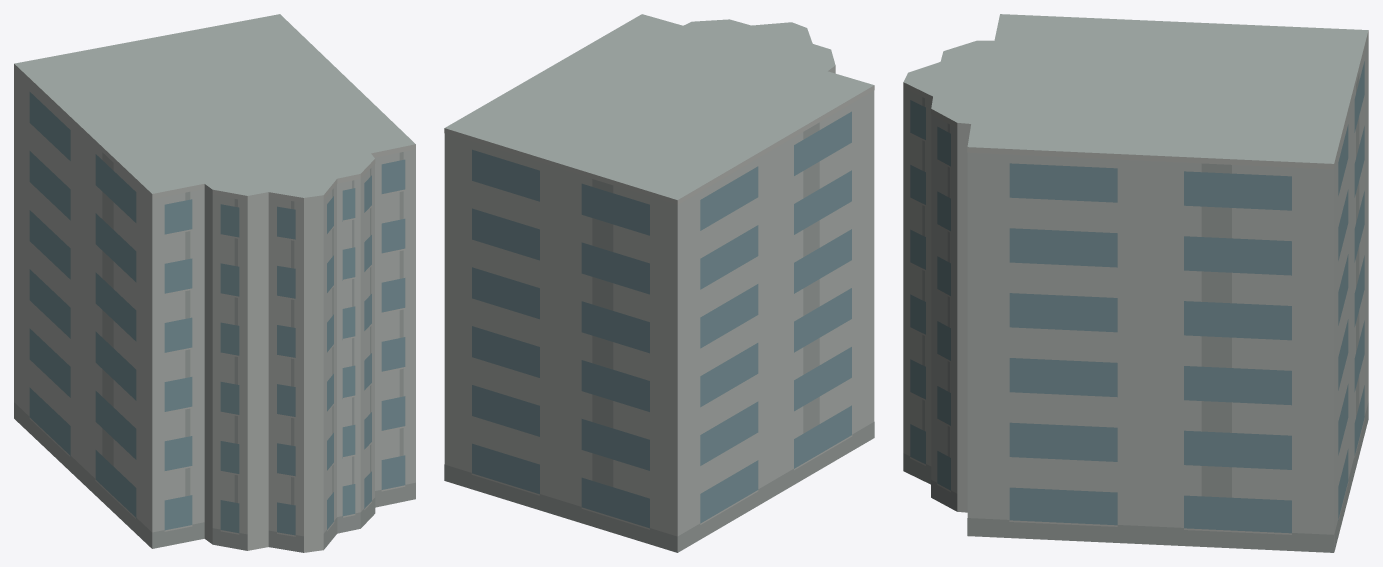
The model's file is survey-upis-32839141.glb.
3 renders of one model, left to right at view 1: azimuth 30°, elevation 25°; view 2: azimuth 150°, elevation 25°; view 3: azimuth 270°, elevation 25°, orthographic. The views are drawn at different scales.
Visible parts, largest first — view 1: survey-upis-32839141.tmp; view 2: survey-upis-32839141.tmp; view 3: survey-upis-32839141.tmp.
Part boxes in pixels (x1,y1,x2,y2): survey-upis-32839141.tmp: (14,14,415,552); survey-upis-32839141.tmp: (444,14,874,552); survey-upis-32839141.tmp: (903,14,1368,552).
Size of the model in its own units: 13.89 by 16.8 by 18.22.
